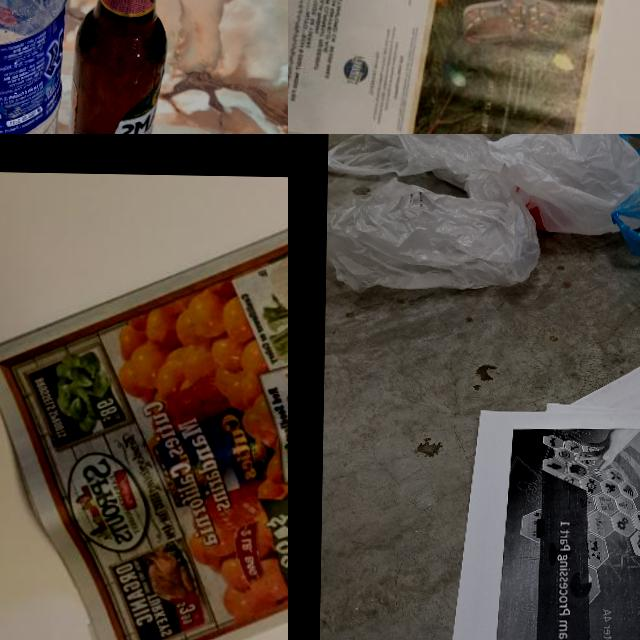garrafa de vidro: (67, 0, 169, 134)
garrafa plástica: (0, 0, 64, 134)
papel: (0, 170, 288, 640), (442, 343, 640, 640), (288, 0, 617, 134)
sacola plástica: (326, 176, 538, 291), (469, 134, 640, 236), (326, 134, 508, 196)
